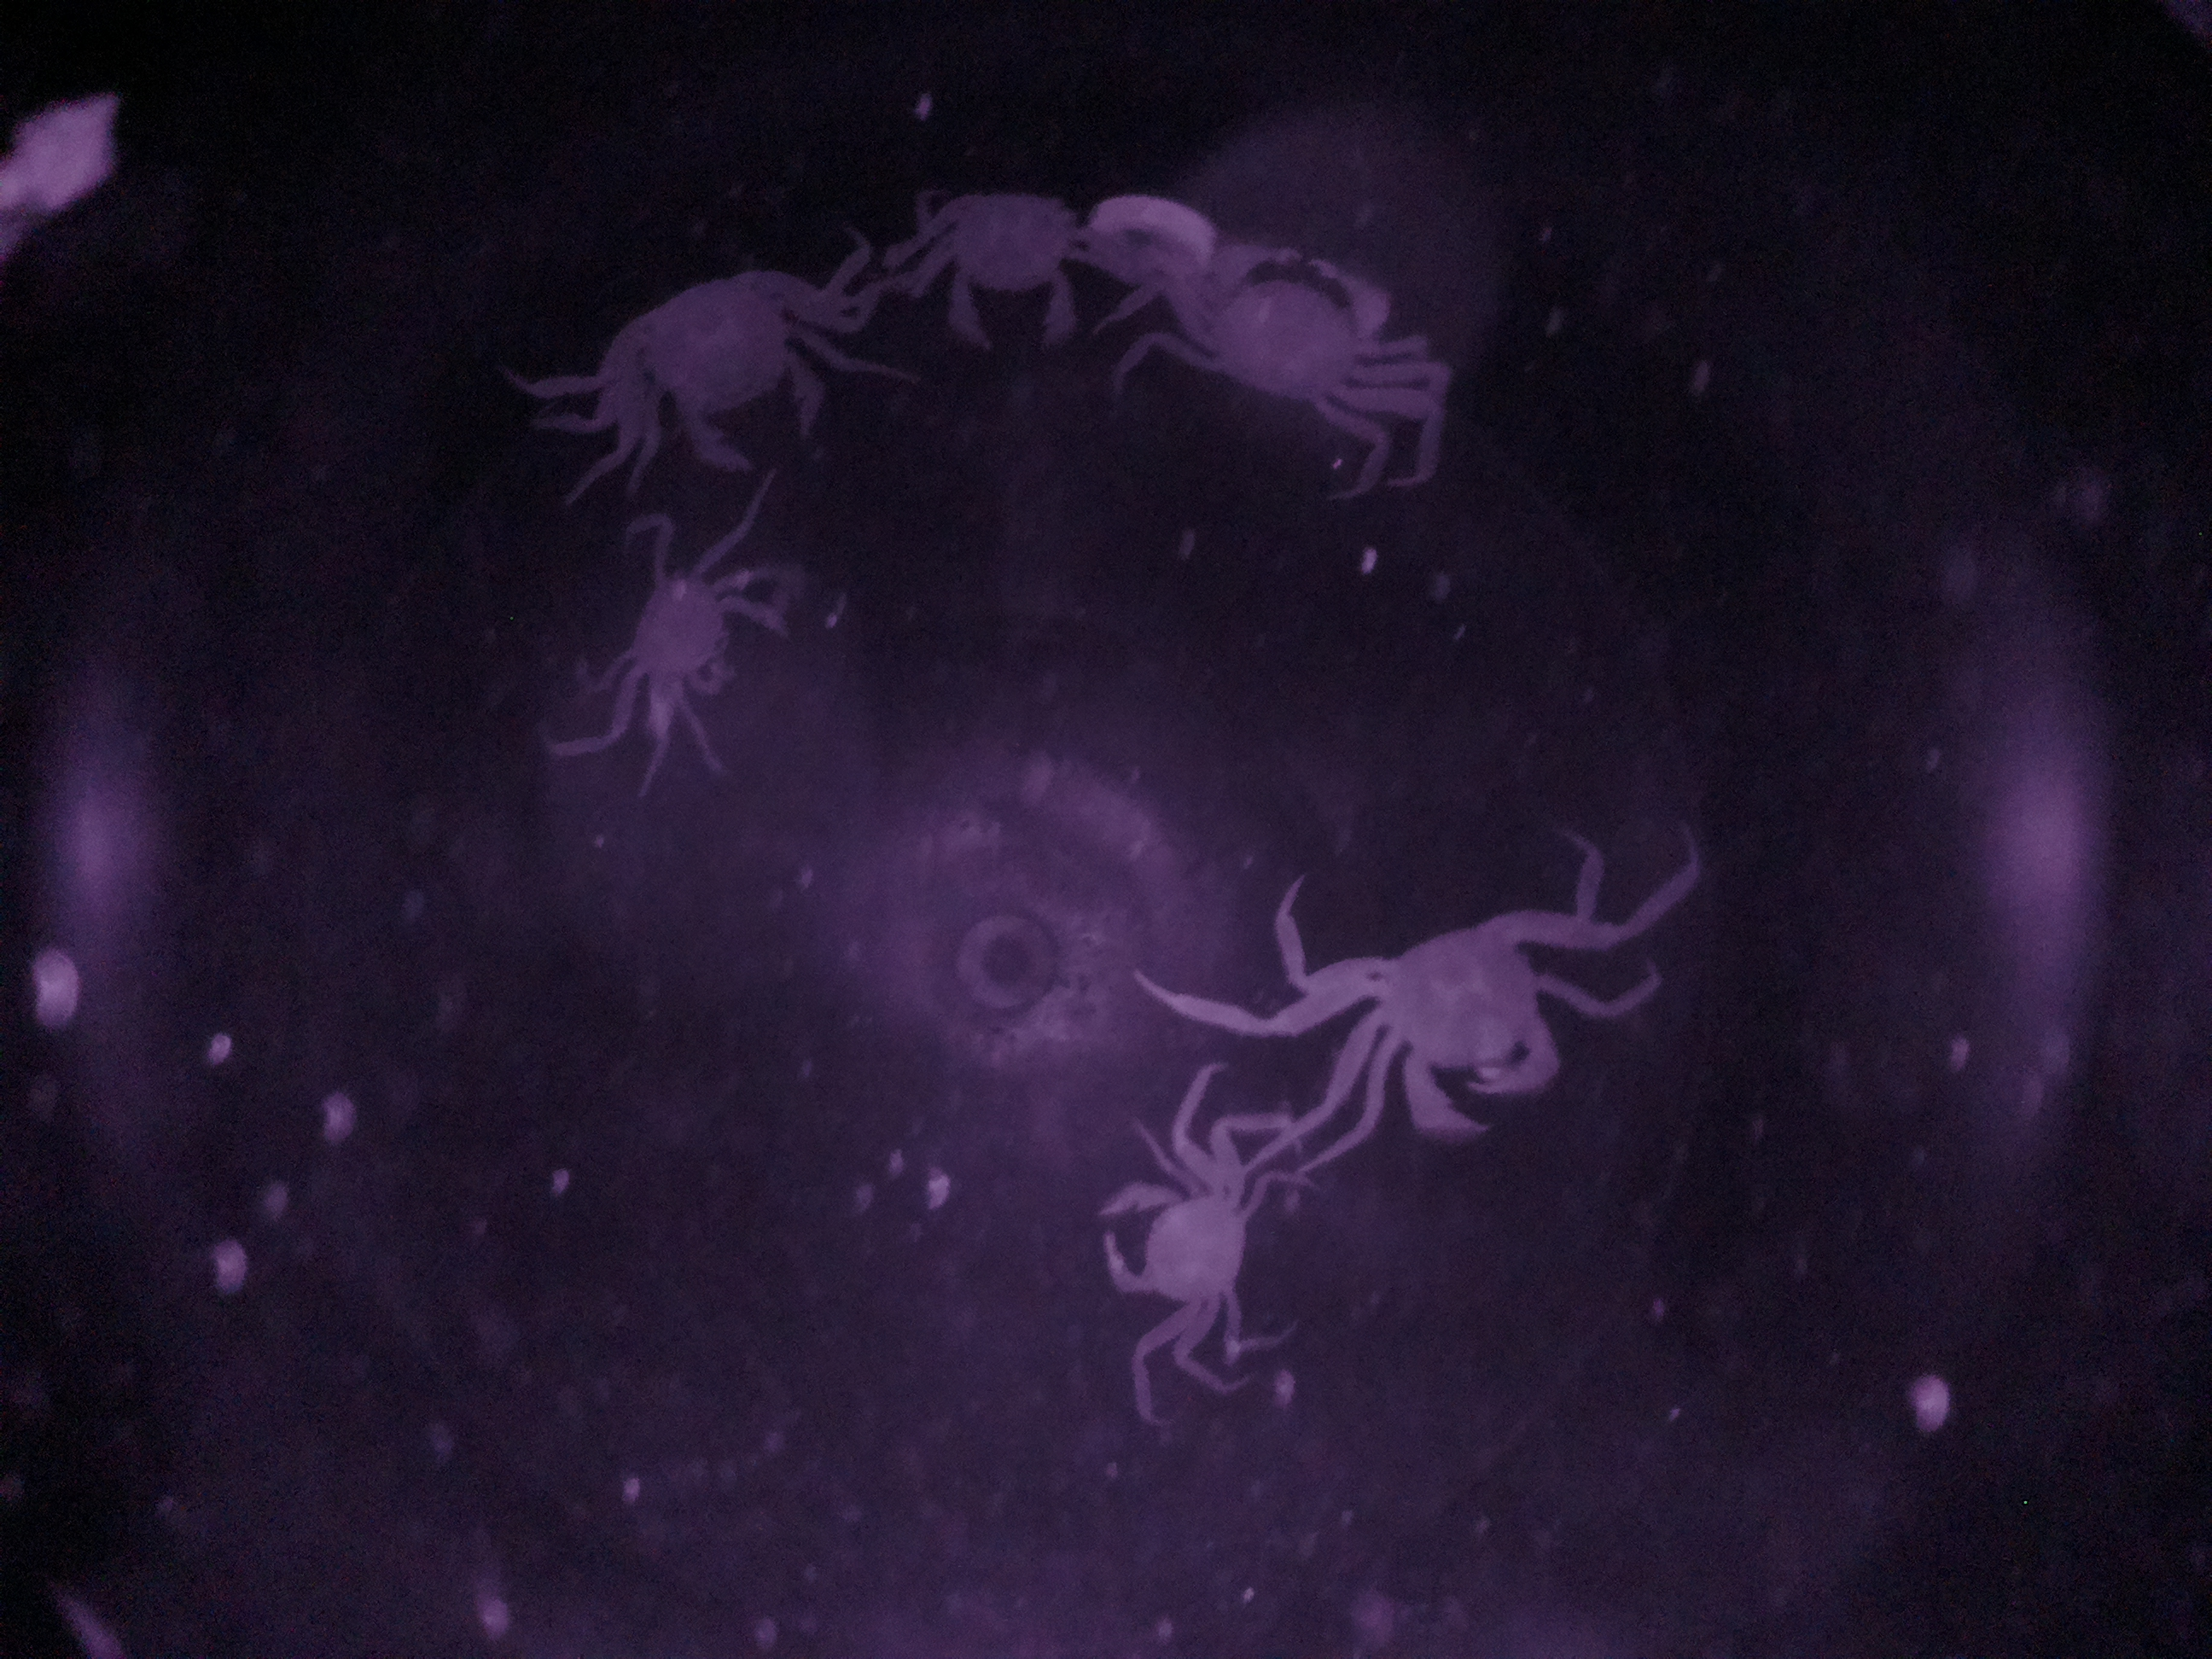Crab: (1305, 889, 1611, 1152), (578, 244, 873, 495), (1150, 221, 1416, 429), (1089, 1126, 1278, 1361), (902, 166, 1106, 371), (608, 516, 784, 739)
